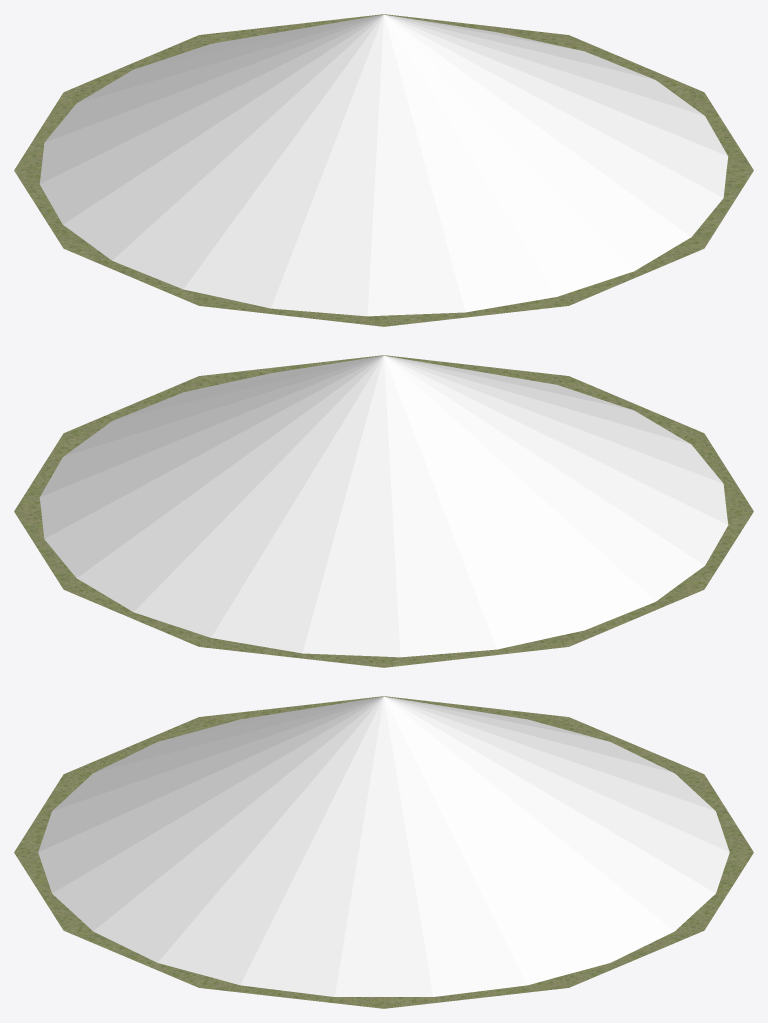
Rendered from Map8 - Copy.obj.
The picture shows the model from 3 angles, top to bottom: view 1: azimuth 30°, elevation 25°; view 2: azimuth 150°, elevation 25°; view 3: azimuth 270°, elevation 25°; orthographic projection.
Size of the model in its own units: 329 by 85.89 by 329.
